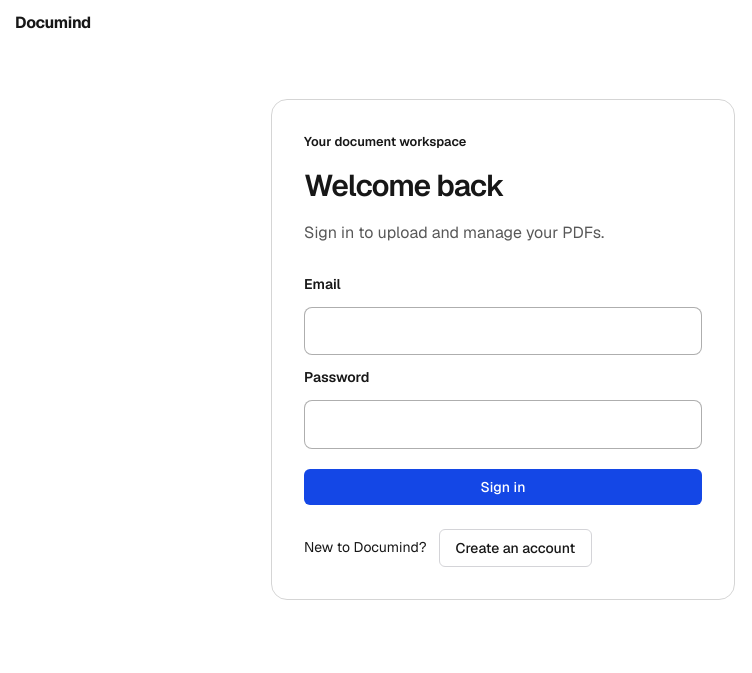
Test: registers then asks for sign-in without retaining the password
Click the button "Create an account" at [515, 548], box [438,528,592,566]
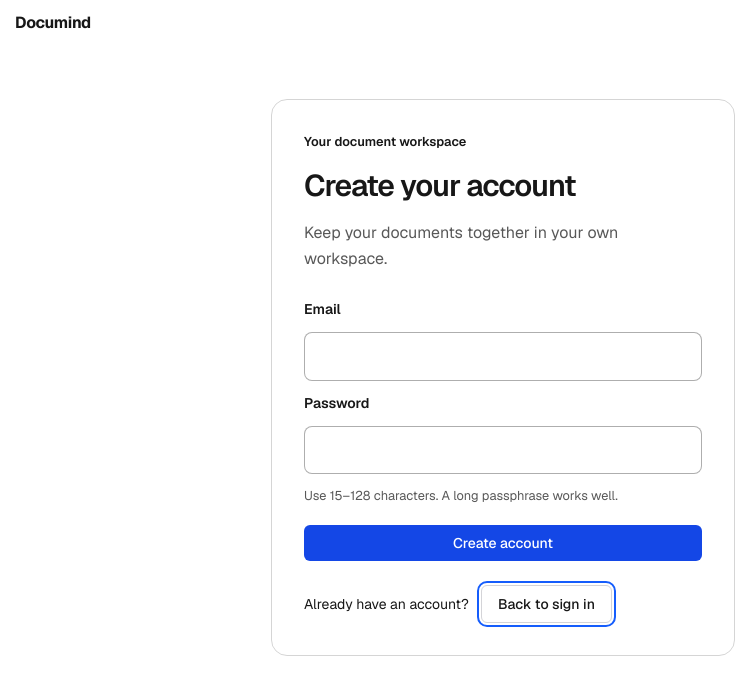
Expected: the password field labelled "Password" has attribute minlength="15", [304,426,702,474]
Type "reader@example.com" into the field labelled "Email" at [503, 357], box [304,332,702,381]
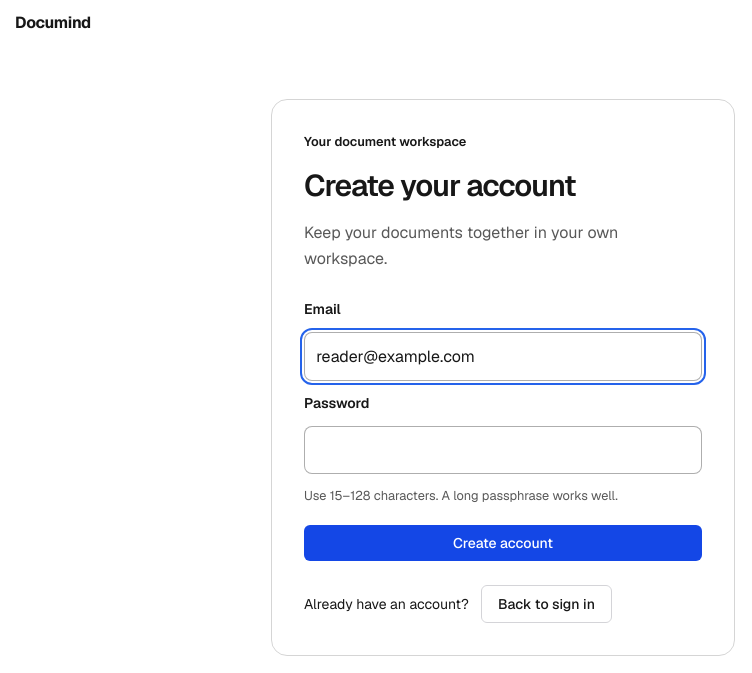
Type "a-long-test-passphrase" into the password field labelled "Password" at [503, 450], box [304,426,702,474]
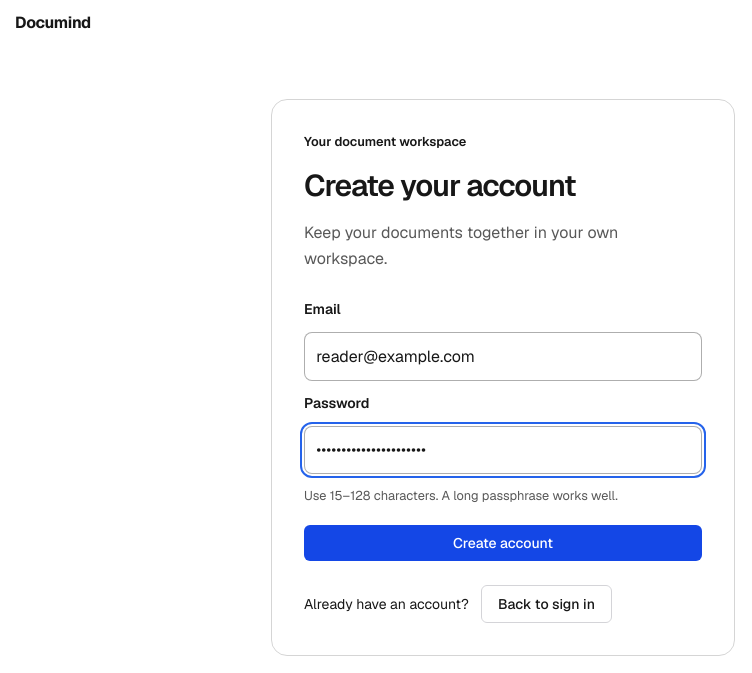
Click the button "Create account" at [503, 543], box [304,525,702,561]
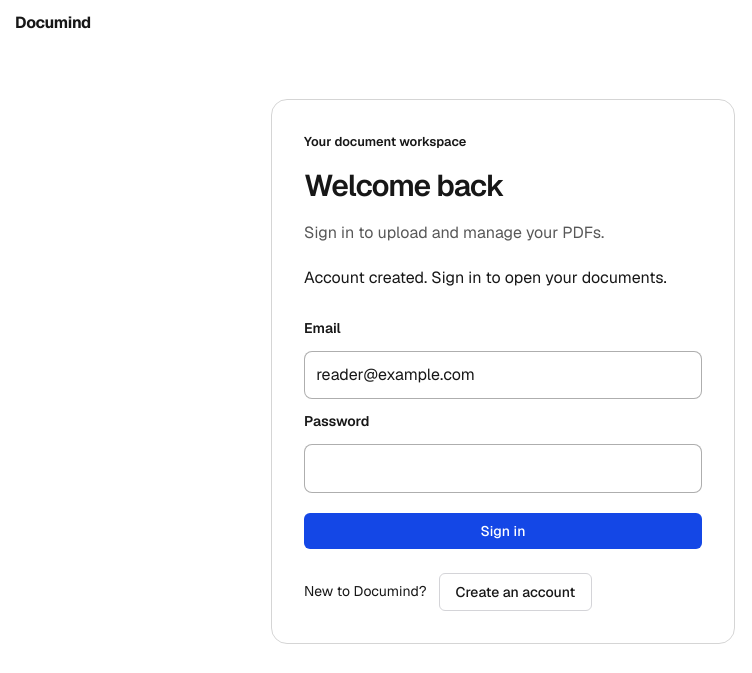
Expected: the text "Account created. Sign in to open your documents." is shown, [304,266,702,290]
Expected: the password field labelled "Password" is empty, [304,444,702,493]
